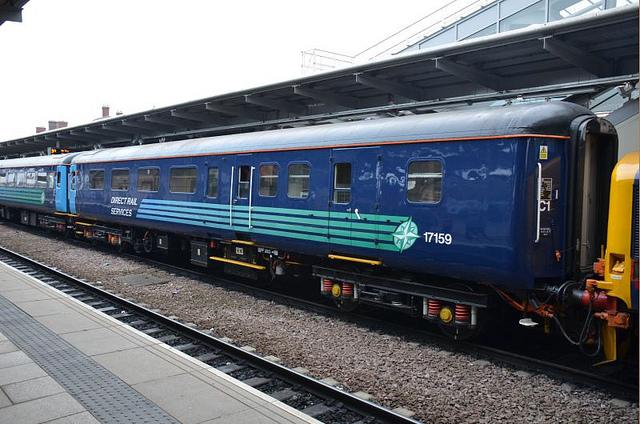Train: (0, 100, 640, 377)
